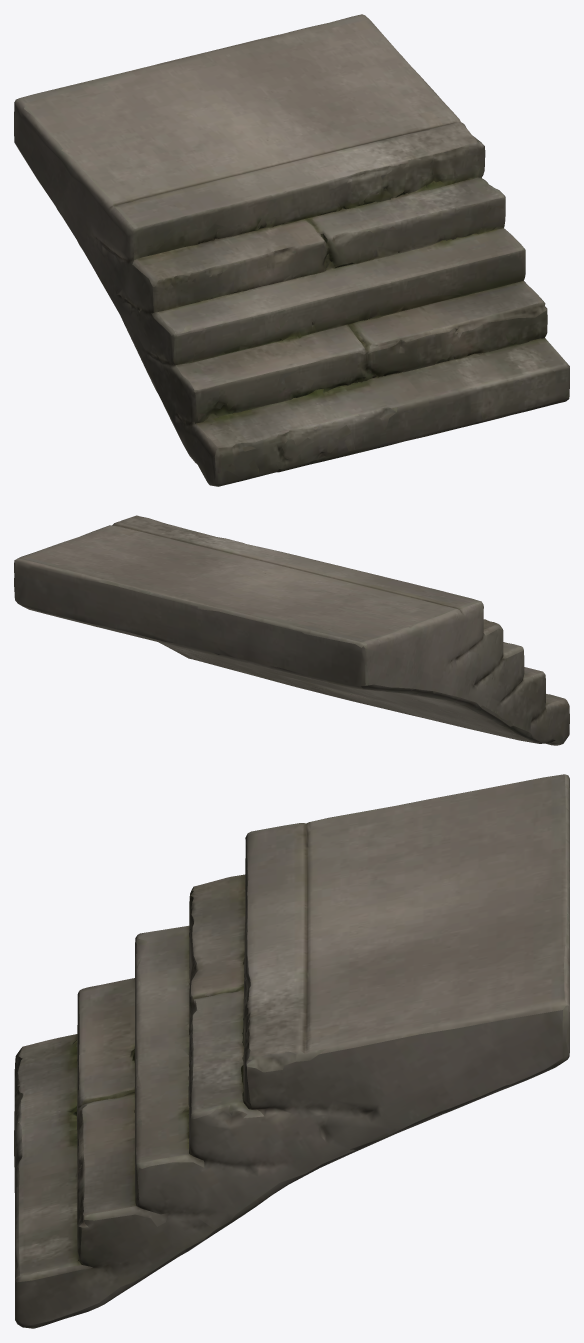
File: ARCH-011.glb
3 renders of one model, top to bottom at view 1: azimuth 30°, elevation 25°; view 2: azimuth 150°, elevation 25°; view 3: azimuth 270°, elevation 25°, orthographic. The views are drawn at different scales.
Parts seen in each view (by area): view 1: world; view 2: world; view 3: world.
Part boxes in pixels (box(x1,y1,x2,y2)): world: box(14, 14, 569, 486); world: box(14, 515, 569, 745); world: box(14, 774, 569, 1328).
Size of the model in its own units: 1.2 by 0.7893 by 1.2.
1 material, 1 textured.
